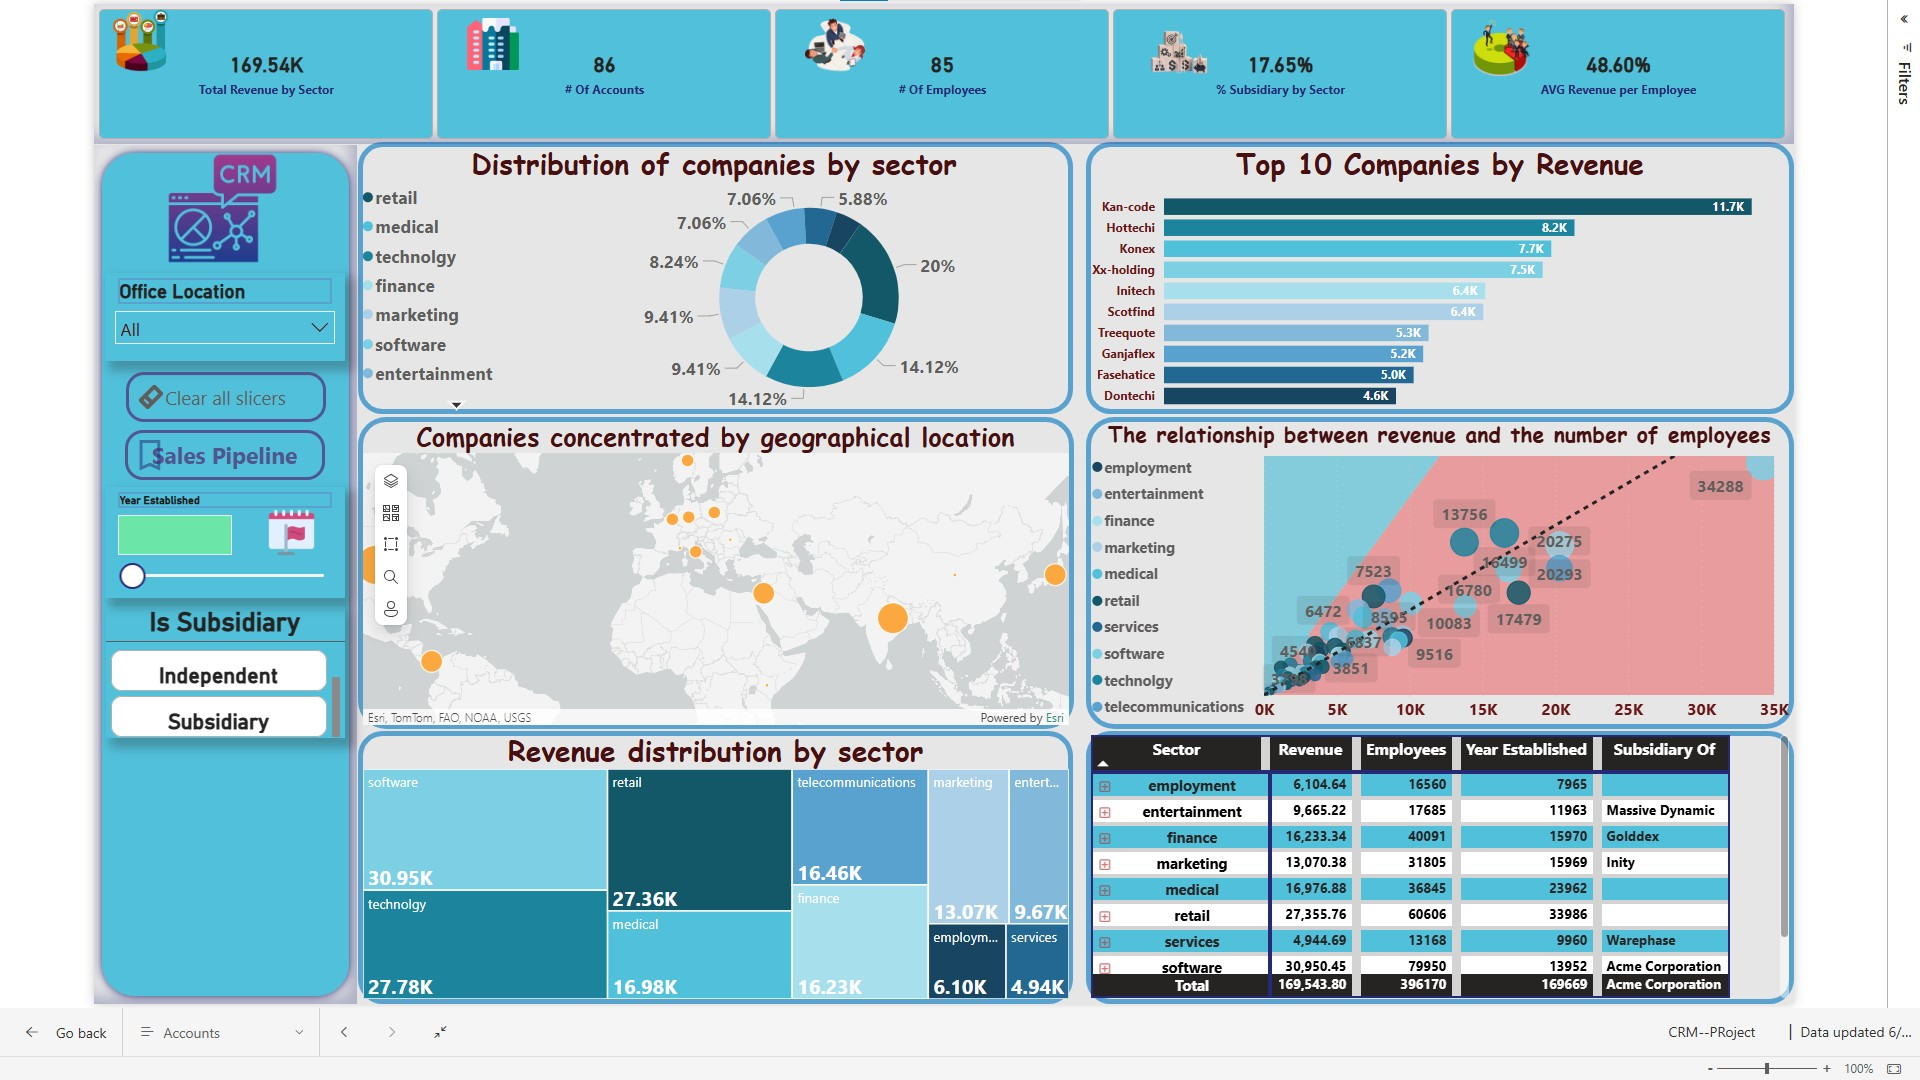

Layout of this report page (visuals, bound fields, positions):
{"tool":"powerbi","page":{"name":"Accounts","canvas":[1700,1000],"ordinal":1},"visuals":[{"type":"shape","box":[264.2,727.3,714.7,273.1],"z":0},{"type":"shape","box":[0,141.5,263.4,858.5],"z":1000},{"type":"shape","box":[991.6,412.7,708.4,312.1],"z":3000},{"type":"shape","box":[991.6,727.3,708.4,273.1],"z":4000},{"type":"shape","box":[264.2,412.7,716,312.1],"z":5000},{"type":"shape","box":[264.2,138.4,714.7,271.8],"z":6000},{"type":"shape","box":[991.6,138.4,708.4,271.8],"z":7000},{"type":"cardVisual","fields":{"Data":["Subsidiary Of.Total Revenue by Sector","Subsidiary Of.Total-Accounts","Subsidiary Of.# Of Employees","Subsidiary Of.% Subsidiary by Sector","Avg(Subsidiary Of.Revenue per Employee)"]},"box":[0,0,1700,140.2],"z":8000},{"type":"donutChart","title":"Distribution of companies by sector","fields":{"Category":["Subsidiary Of.Sector"],"Y":["CountNonNull(Subsidiary Of.Account)"]},"box":[262.3,139.3,717,274.2],"z":9000},{"type":"esriVisual","title":"Companies concentrated by geographical location","fields":{"Location":["Subsidiary Of.Office Location"],"Size":["Sum(Subsidiary Of.Revenue)"]},"box":[263.8,413.5,715.9,312.7],"z":10000},{"type":"clusteredBarChart","title":"Top 10 Companies by Revenue","fields":{"Category":["Subsidiary Of.Account"],"Y":["Sum(Subsidiary Of.Revenue)"]},"box":[991.5,139.3,709.9,274.2],"z":11000},{"type":"scatterChart","title":"The relationship between revenue and the number of employees","fields":{"Size":["Sum(Subsidiary Of.Revenue)"],"Y":["Sum(Subsidiary Of.Revenue)"],"Category":["Subsidiary Of.Employees"],"Series":["Subsidiary Of.Sector"],"X":["Sum(Subsidiary Of.Employees)"]},"box":[991.5,413.5,708.5,312.7],"z":12000},{"type":"slicer","fields":{"Values":["Subsidiary Of.Office Location"]},"box":[10.6,269.3,240.1,87.4],"z":13000},{"type":"treemap","title":"Revenue distribution by sector","fields":{"Group":["Subsidiary Of.Sector"],"Values":["Sum(Subsidiary Of.Revenue)"]},"box":[263.8,726.2,715.9,274.2],"z":14000},{"type":"pivotTable","fields":{"Rows":["Subsidiary Of.Sector","Subsidiary Of.Account"],"Values":["Sum(Subsidiary Of.Revenue)","Sum(Subsidiary Of.Employees)","Sum(Subsidiary Of.Year Established)","Min(Subsidiary Of.Subsidiary Of)"]},"box":[991.5,726.2,708.5,272.7],"z":15000},{"type":"actionButton","box":[30.8,426.2,200,50],"z":16000},{"type":"actionButton","box":[32,367.6,200,50],"z":17000},{"type":"slicer","fields":{"Values":["Year Established Parameter.Year Established Parameter"]},"box":[11,482.9,240.2,111],"z":18000},{"type":"advancedSlicerVisual","fields":{"Values":["Subsidiary Of.Is Subsidiary"]},"box":[12.3,601.6,239.1,132.7],"z":19000},{"type":"image","box":[10.4,138,240.3,130.5],"z":19001},{"type":"image","box":[3.7,0,85.4,79.3],"z":19002},{"type":"image","box":[343.9,8.5,111,62.2],"z":19003},{"type":"image","box":[681.7,8.5,118.3,70.7],"z":19004},{"type":"image","box":[1020.7,0,128,79.3],"z":19005},{"type":"image","box":[1358.5,8.5,97.6,70.7],"z":19006},{"type":"image","box":[165.9,500,64.6,57.3],"z":19007}]}

Visuals, with their boxes on the page's 1700x1000 design canvas (x1, y1, x2, y2). These are canvas units, not pixel positions in the 1920x1080 screenshot, which may show the page scaled, cropped or inside an application window:
shape: (264, 727, 979, 1000)
shape: (0, 142, 263, 1000)
shape: (992, 413, 1700, 725)
shape: (992, 727, 1700, 1000)
shape: (264, 413, 980, 725)
shape: (264, 138, 979, 410)
shape: (992, 138, 1700, 410)
cardVisual - Subsidiary Of.Total Revenue by Sector x Subsidiary Of.Total-Accounts: (0, 0, 1700, 140)
"Distribution of companies by sector" donutChart: (262, 139, 979, 414)
"Companies concentrated by geographical location" esriVisual: (264, 414, 980, 726)
"Top 10 Companies by Revenue" clusteredBarChart: (992, 139, 1701, 414)
"The relationship between revenue and the number of employees" scatterChart: (992, 414, 1700, 726)
slicer - Subsidiary Of.Office Location: (11, 269, 251, 357)
"Revenue distribution by sector" treemap: (264, 726, 980, 1000)
pivotTable - Subsidiary Of.Sector x Subsidiary Of.Account: (992, 726, 1700, 999)
actionButton: (31, 426, 231, 476)
actionButton: (32, 368, 232, 418)
slicer - Year Established Parameter.Year Established Parameter: (11, 483, 251, 594)
advancedSlicerVisual - Subsidiary Of.Is Subsidiary: (12, 602, 251, 734)
image: (10, 138, 251, 268)
image: (4, 0, 89, 79)
image: (344, 8, 455, 71)
image: (682, 8, 800, 79)
image: (1021, 0, 1149, 79)
image: (1358, 8, 1456, 79)
image: (166, 500, 230, 557)
